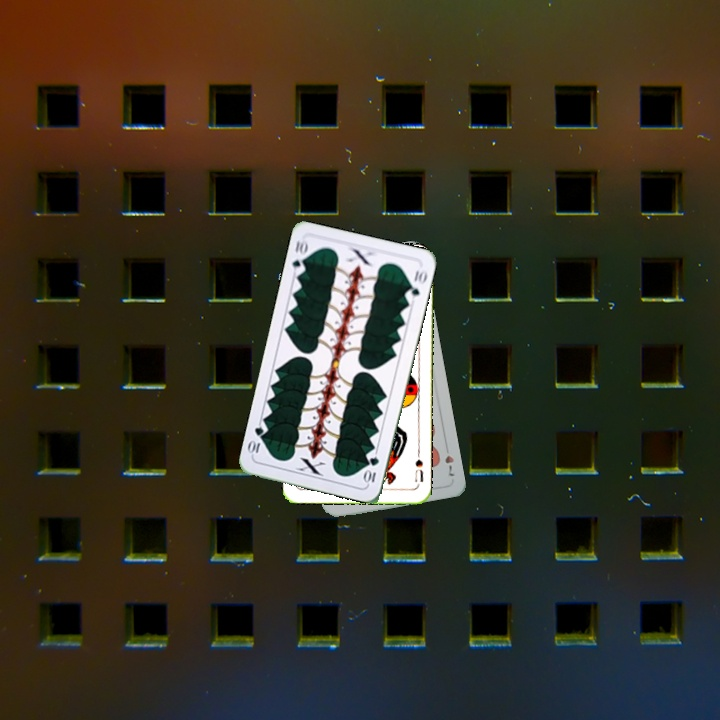G10: (288, 236, 311, 277), (361, 452, 382, 486)
H7: (441, 440, 457, 480)
SU: (411, 448, 426, 484)
